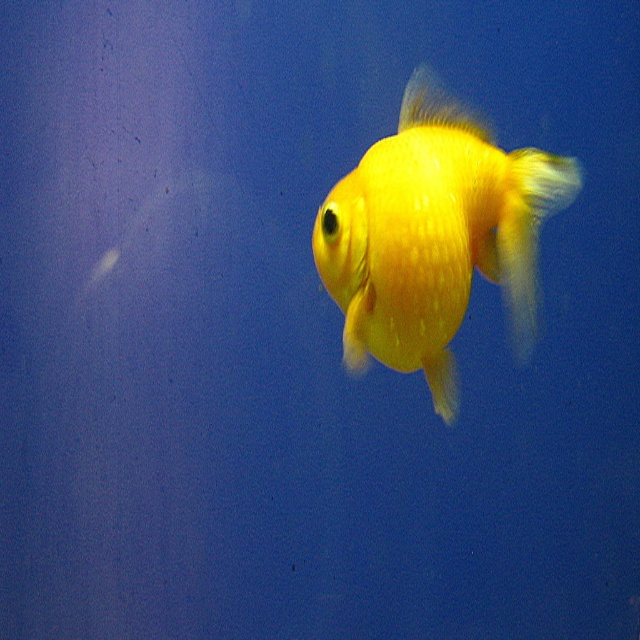Goldfish: (312, 77, 592, 432)
